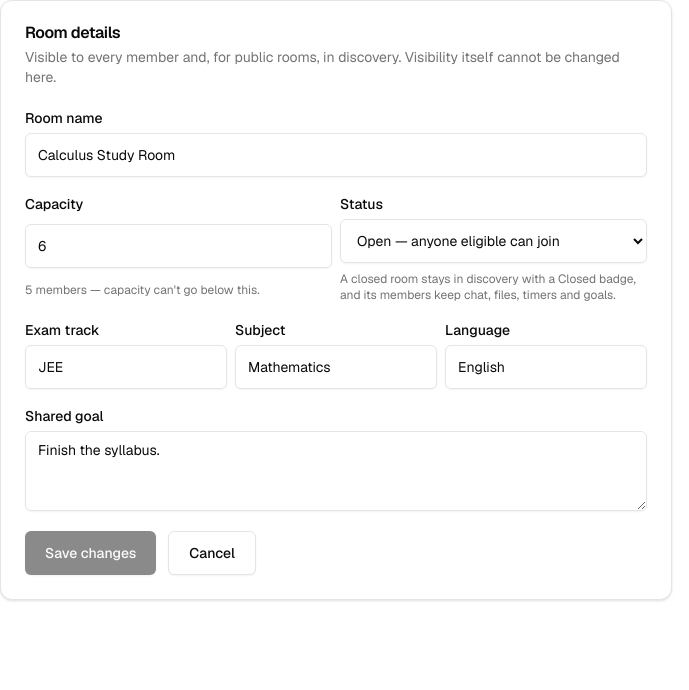
Test case: RoomSettingsForm › shows the capacity floor refusal against the capacity field
The image size is (689, 690).
Replace the text in the number field labelled "Capacity" with "2" at coordinates (178, 246), box [25,224,332,268]
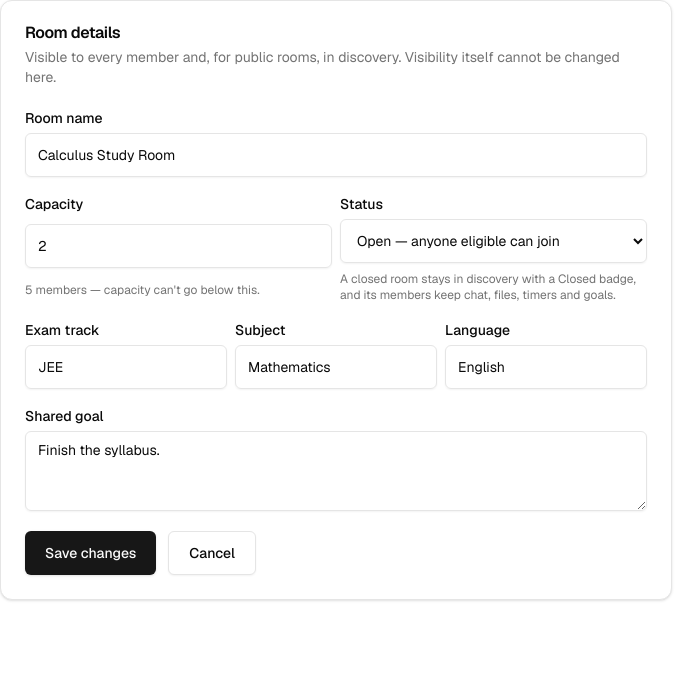
Click the button "Save changes" at coordinates (91, 553), box [25,531,156,575]
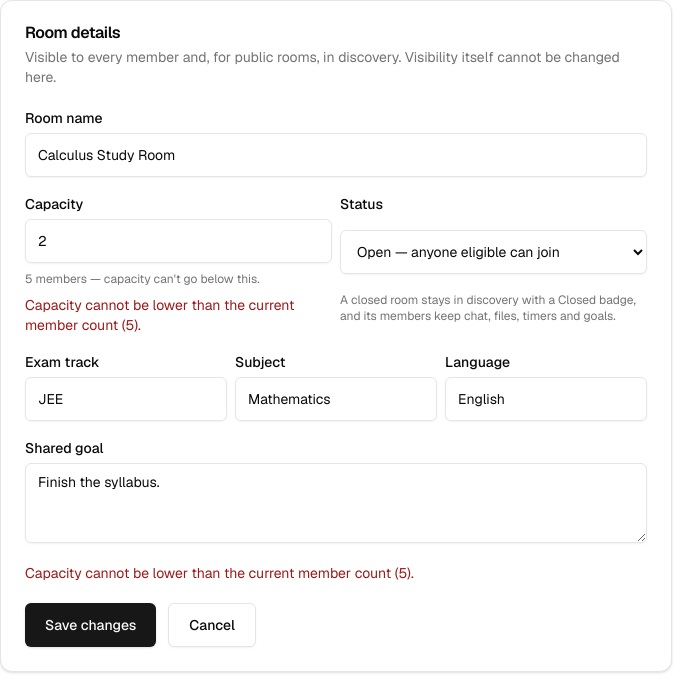
Expected: the text "Capacity cannot be lower than the current member count (5)." below "— capacity can't go below this." is shown, [25,296,294,334]
